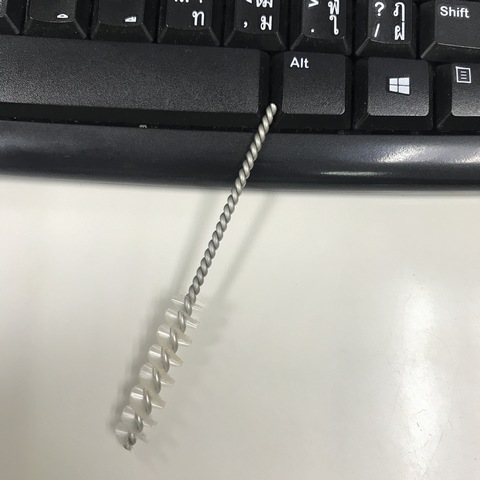Twist Brush-B: (110, 101, 281, 451)
